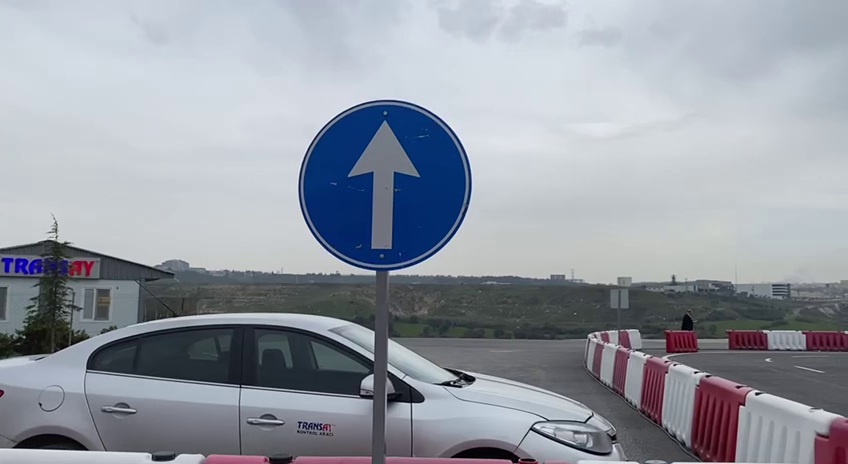forward: (292, 93, 476, 274)
